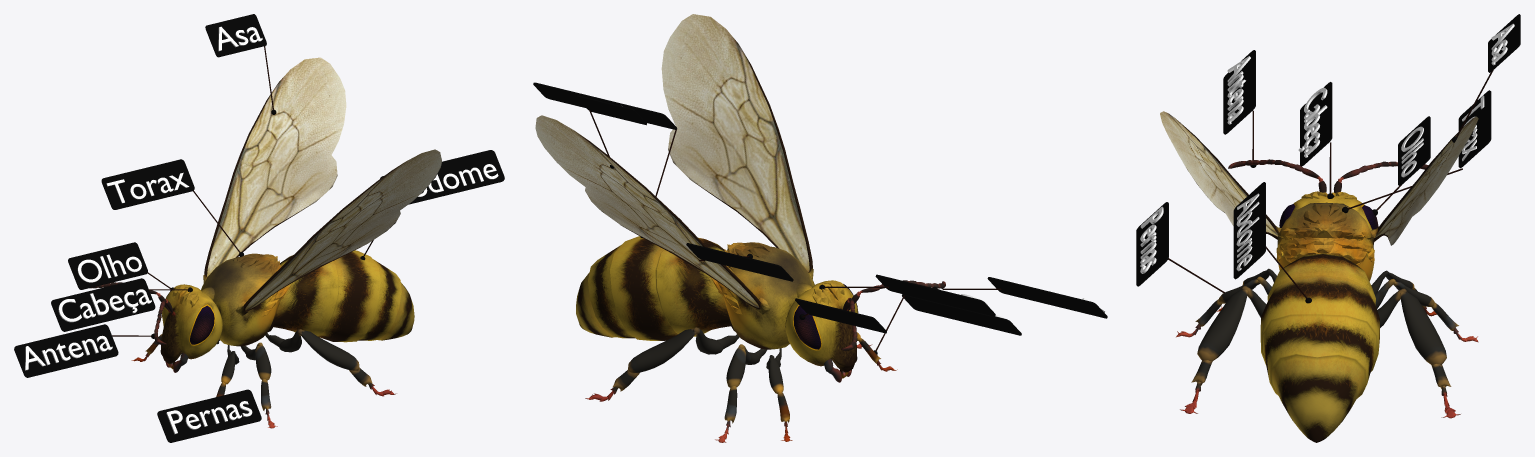
The model's file is Abelha.obj.
3 renders of one model, left to right at view 1: azimuth 30°, elevation 25°; view 2: azimuth 150°, elevation 25°; view 3: azimuth 270°, elevation 25°, orthographic. The views are drawn at different scales.
Parts seen in each view (by area): view 1: Bee_Bee_bee_12_04:bee_0, Plane.007_Plane.009, Plane.005_Plane.007, Plane.004_Plane.006, Plane.003, Plane.006_Plane.008, Plane.002_Plane.005, Plane.001, Text.004_label1.006, Text.005_label1.007, Text.007_label1.009, Text.006_label1.008 (+3 smaller); view 2: Bee_Bee_bee_12_04:bee_0, Plane.005_Plane.007, Plane.004_Plane.006, Plane.007_Plane.009, Plane.003, Plane.006_Plane.008, Plane.002_Plane.005, Plane.001; view 3: Bee_Bee_bee_12_04:bee_0, Plane.006_Plane.008, Plane.007_Plane.009, Plane.005_Plane.007, Plane.004_Plane.006, Plane.003, Plane.002_Plane.005, Text.006_label1.008, Text.004_label1.006, Text.005_label1.007, Text.007_label1.009, Plane.001 (+2 smaller).
Boxes of the visible parts, <box> form: Bee_Bee_bee_12_04:bee_0: <box>89,57,441,428</box>; Plane.007_Plane.009: <box>157,389,261,442</box>; Plane.005_Plane.007: <box>14,324,118,377</box>; Plane.004_Plane.006: <box>51,278,155,331</box>; Plane.003: <box>101,159,194,209</box>; Plane.006_Plane.008: <box>380,150,504,204</box>; Plane.002_Plane.005: <box>68,242,147,289</box>; Plane.001: <box>205,14,266,57</box>; Text.004_label1.006: <box>58,289,151,322</box>; Text.005_label1.007: <box>25,335,112,370</box>; Text.007_label1.009: <box>166,401,252,434</box>; Text.006_label1.008: <box>418,164,498,196</box>; Bee_Bee_bee_12_04:bee_0: <box>535,14,945,442</box>; Plane.005_Plane.007: <box>987,277,1107,318</box>; Plane.004_Plane.006: <box>875,274,995,316</box>; Plane.007_Plane.009: <box>902,294,1021,335</box>; Plane.003: <box>686,243,793,281</box>; Plane.006_Plane.008: <box>533,82,677,129</box>; Plane.002_Plane.005: <box>795,298,886,333</box>; Plane.001: <box>576,95,646,125</box>; Bee_Bee_bee_12_04:bee_0: <box>1160,111,1478,442</box>; Plane.006_Plane.008: <box>1233,182,1265,279</box>; Plane.007_Plane.009: <box>1136,202,1168,286</box>; Plane.005_Plane.007: <box>1223,50,1255,134</box>; Plane.004_Plane.006: <box>1300,82,1332,166</box>; Plane.003: <box>1458,90,1491,168</box>; Plane.002_Plane.005: <box>1398,116,1430,185</box>; Text.006_label1.008: <box>1236,193,1259,271</box>; Text.004_label1.006: <box>1298,87,1327,157</box>; Text.005_label1.007: <box>1227,56,1250,124</box>; Text.007_label1.009: <box>1140,206,1163,273</box>; Plane.001: <box>1488,14,1520,72</box>.
Size of the model in its own units: 2.56 by 1.45 by 1.39.
